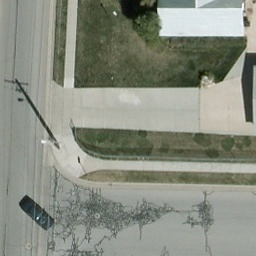car: (17, 194, 56, 231)
